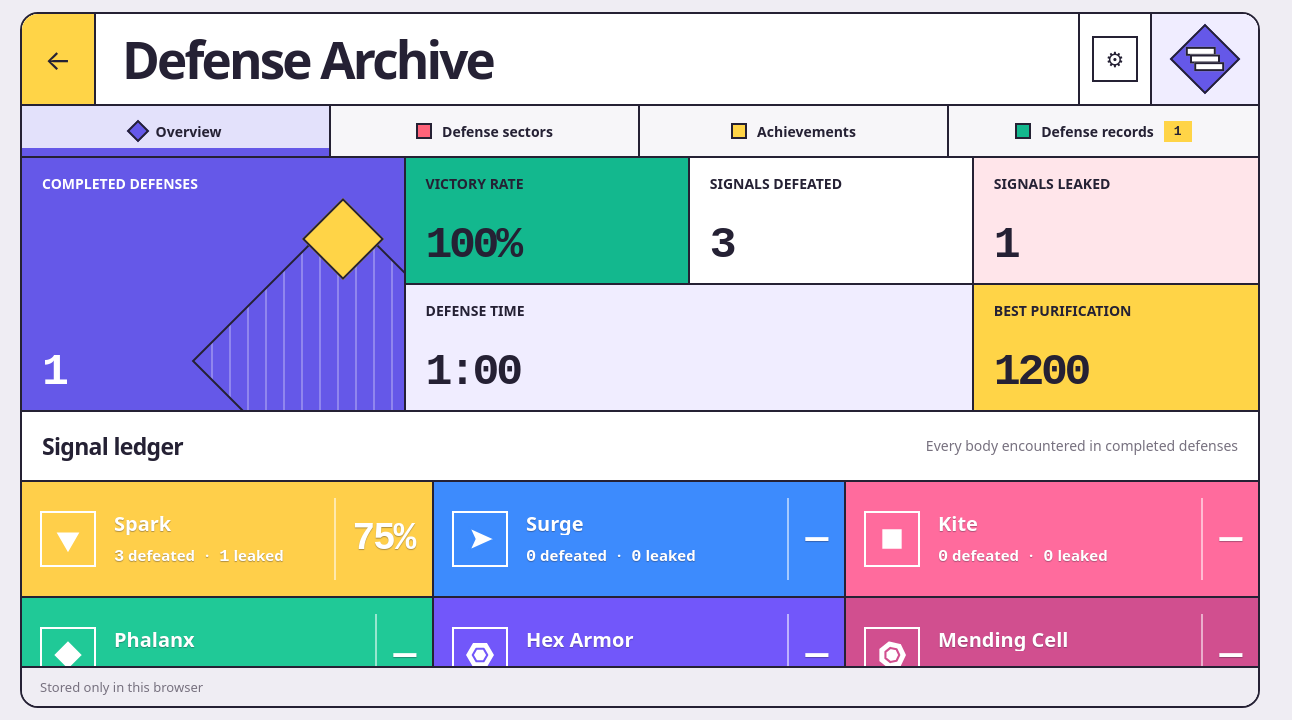
Test: defense archive interface › shows summary metrics, achievements, filters, and defense detail
The width and height of the screenshot is (1292, 720).
Expected: the text "Completed defenses" is shown, x1=42 y1=176 x2=212 y2=193
Expected: the element with class "defense-archive-mark" is empty, x1=1152 y1=14 x2=1258 y2=104
Click the tab "Defense sectors".
click(486, 131)  # box x1=331 y1=106 x2=640 y2=156
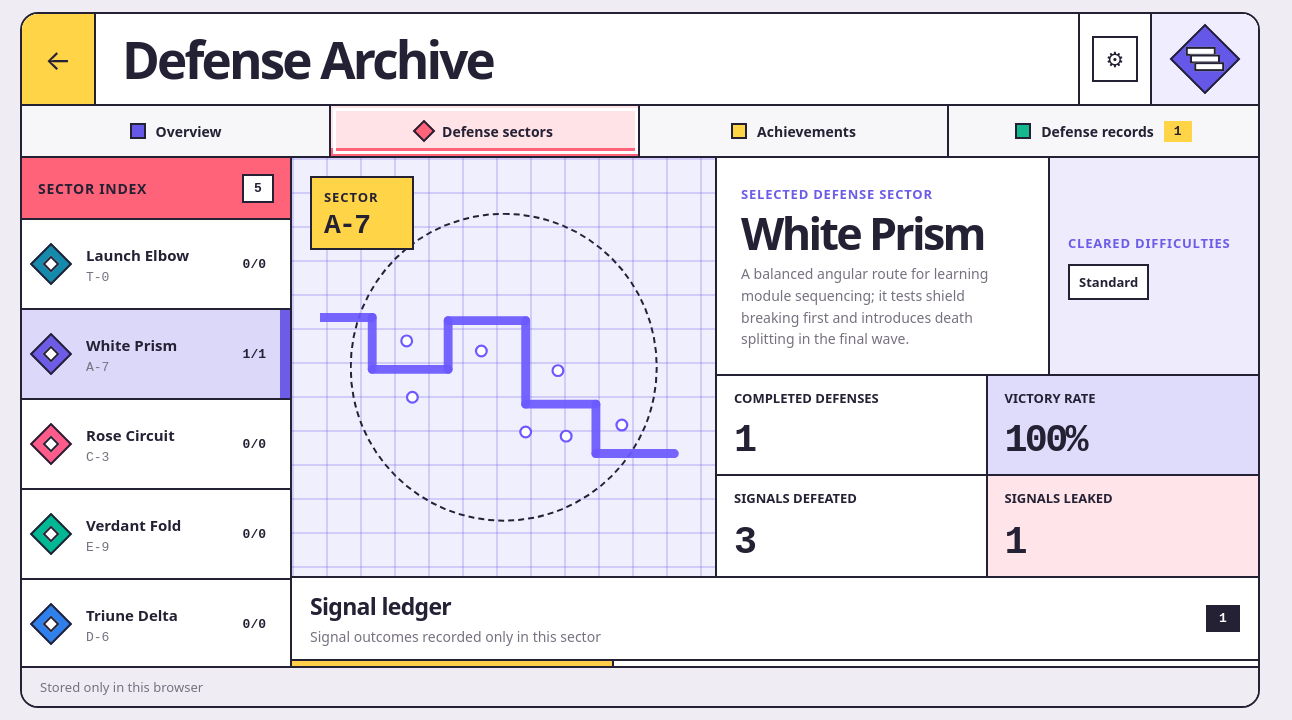
Result: the heading "White Prism" is shown at x1=741 y1=212 x2=1024 y2=253
Result: the text "Signal outcomes recorded only in this sector" is shown at x1=310 y1=627 x2=601 y2=647
Click the tab "Achievements".
click(794, 131)  # box x1=640 y1=106 x2=949 y2=156
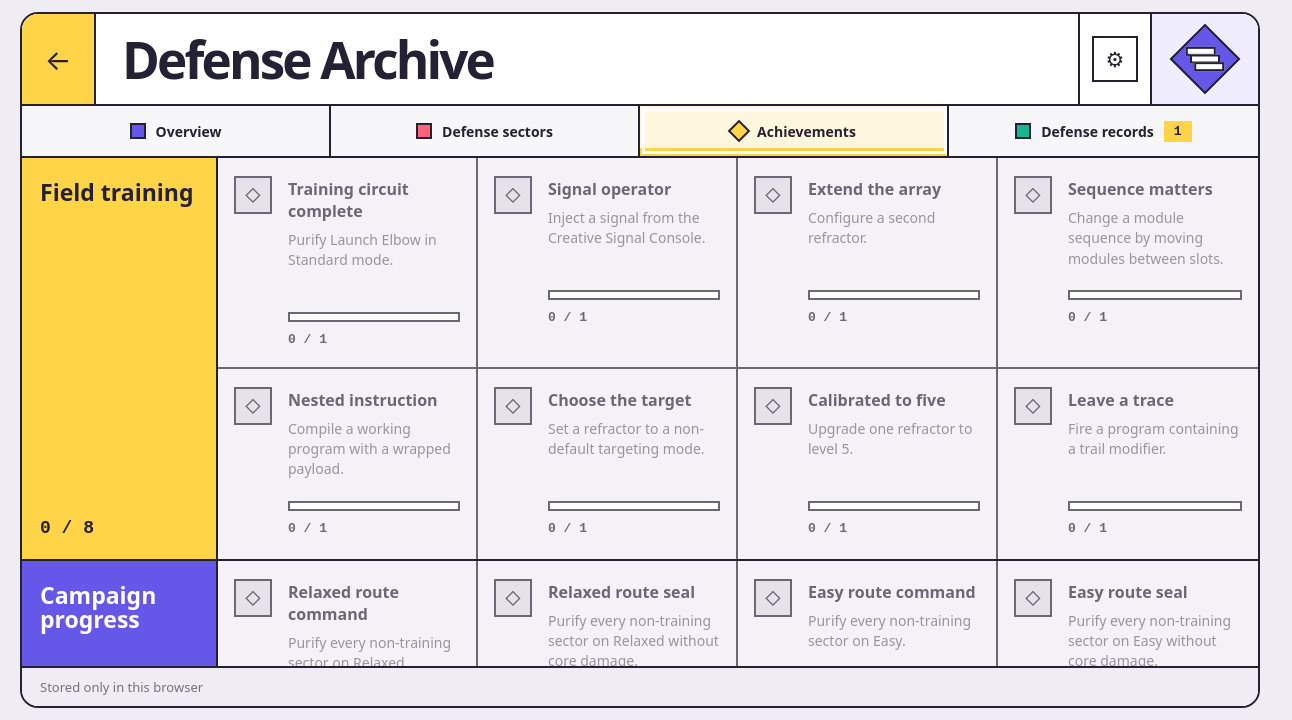
Result: the heading "Field training" is shown at x1=40 y1=180 x2=194 y2=204
Click the tab "Defense records 1".
click(1104, 131)  # box x1=949 y1=106 x2=1258 y2=156
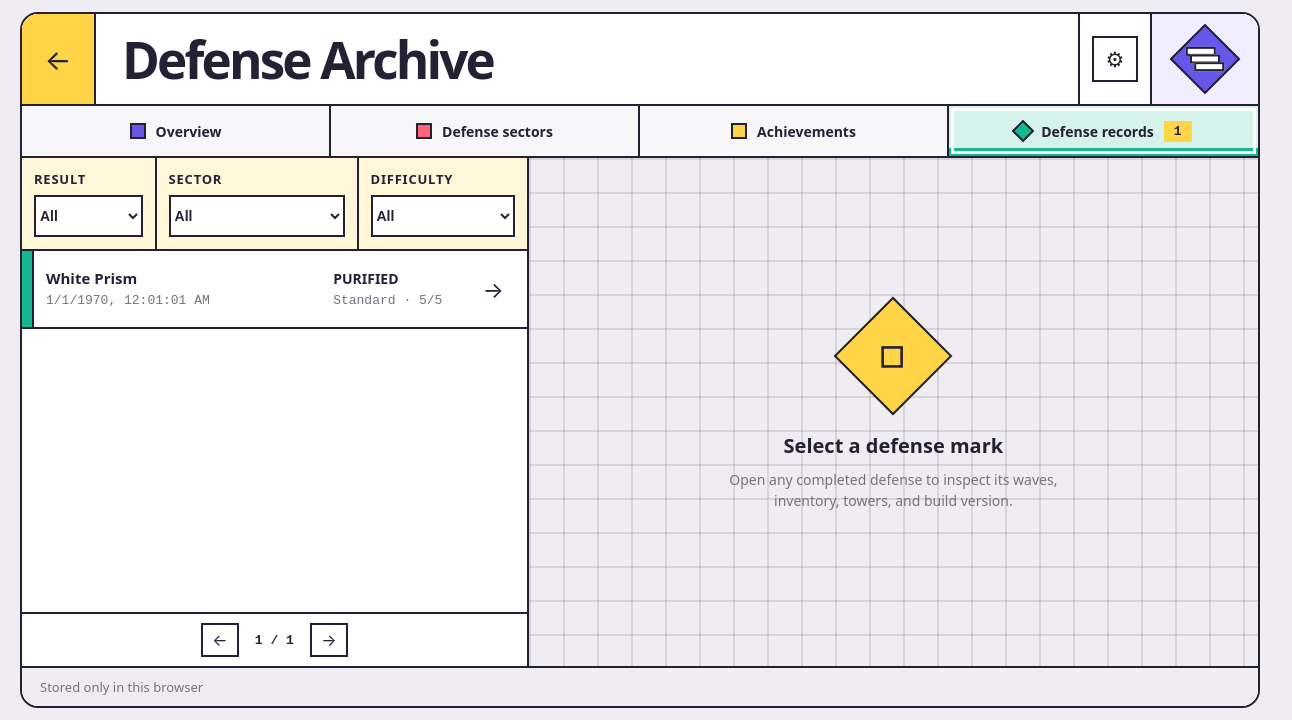
Result: the dropdown labelled "Result" is shown at x1=34 y1=195 x2=143 y2=237
Click the button "White Prism 1/1/1970, 12:01:01 AM Purified Standard · 5/5 →".
click(92, 278)  # box x1=22 y1=251 x2=527 y2=329
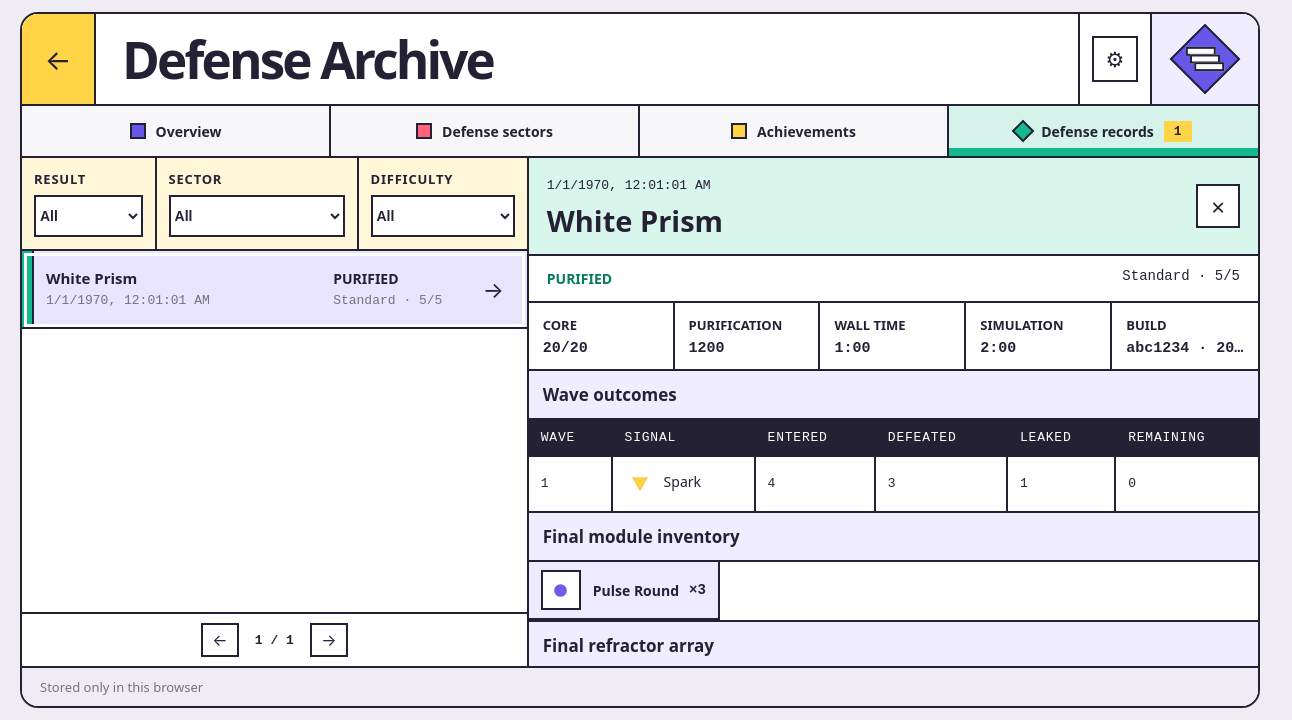
Result: the heading "Final module inventory" is shown at x1=529 y1=513 x2=1258 y2=562
Result: the icon with class "module-icon" is shown at x1=546 y1=576 x2=575 y2=605
Result: the text "abc1234 · 2026-08-31" is shown at x1=1126 y1=341 x2=1244 y2=356
